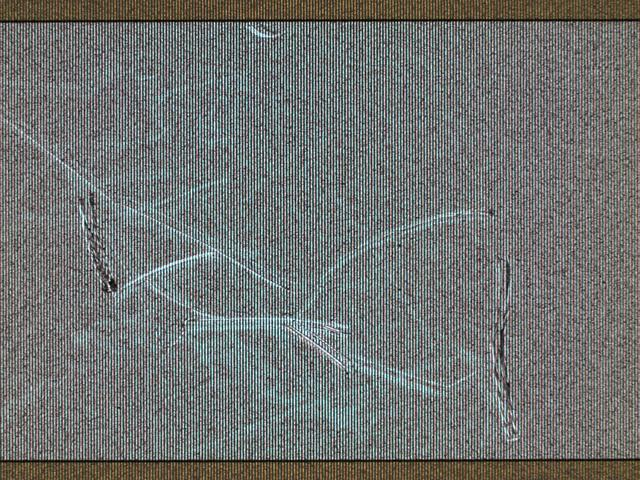SCRATCH: (1, 11, 524, 467)
